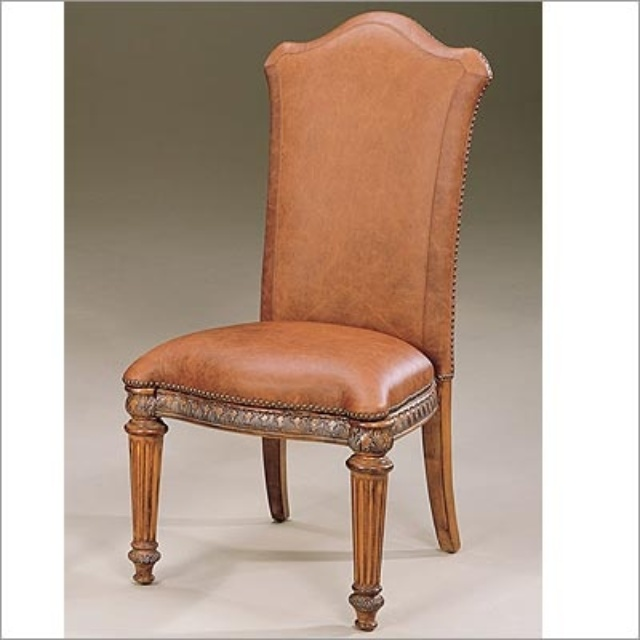obstacle: (123, 11, 490, 630)
